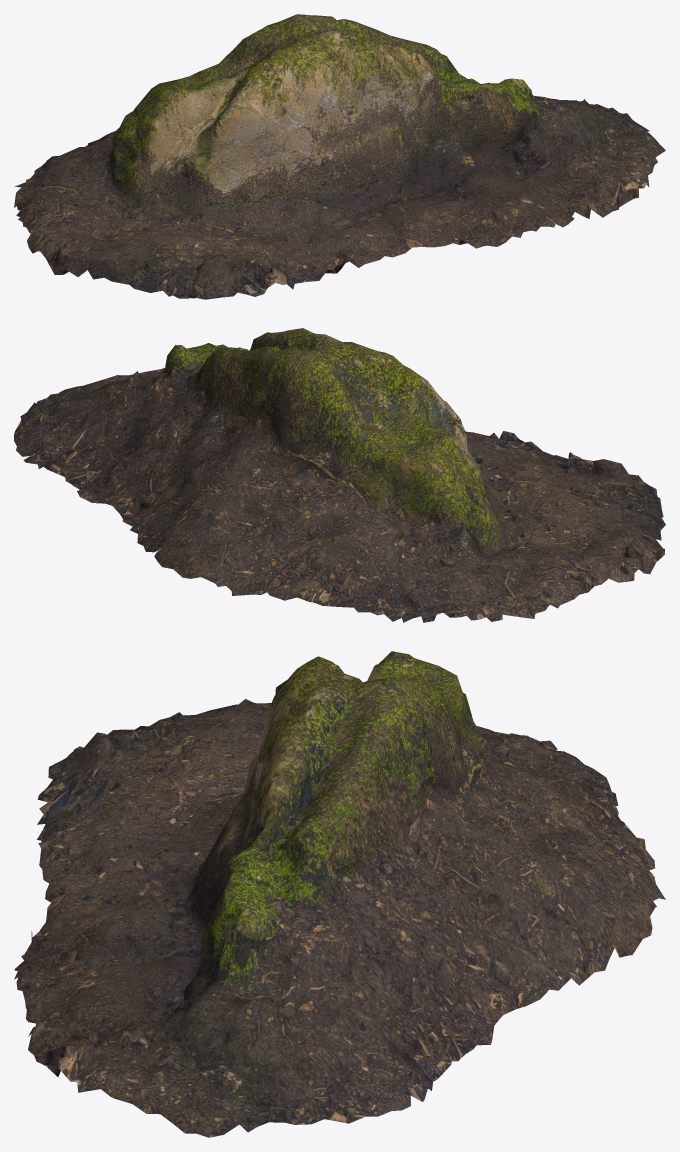
Rendered from PX_Mossy_Rock_05_LOD3.fbx.
3 renders of one model, top to bottom at view 1: azimuth 30°, elevation 25°; view 2: azimuth 150°, elevation 25°; view 3: azimuth 270°, elevation 25°, orthographic. The views are drawn at different scales.
Parts seen in each view (by area): view 1: PX_Mossy_Rock_05_LOD3; view 2: PX_Mossy_Rock_05_LOD3; view 3: PX_Mossy_Rock_05_LOD3.
Boxes of the visible parts, x1,y1,x2,y2 form: PX_Mossy_Rock_05_LOD3: (14, 14, 665, 299); PX_Mossy_Rock_05_LOD3: (14, 328, 665, 622); PX_Mossy_Rock_05_LOD3: (14, 651, 665, 1137).
Size of the model in its own units: 104 by 27.94 by 67.06.
